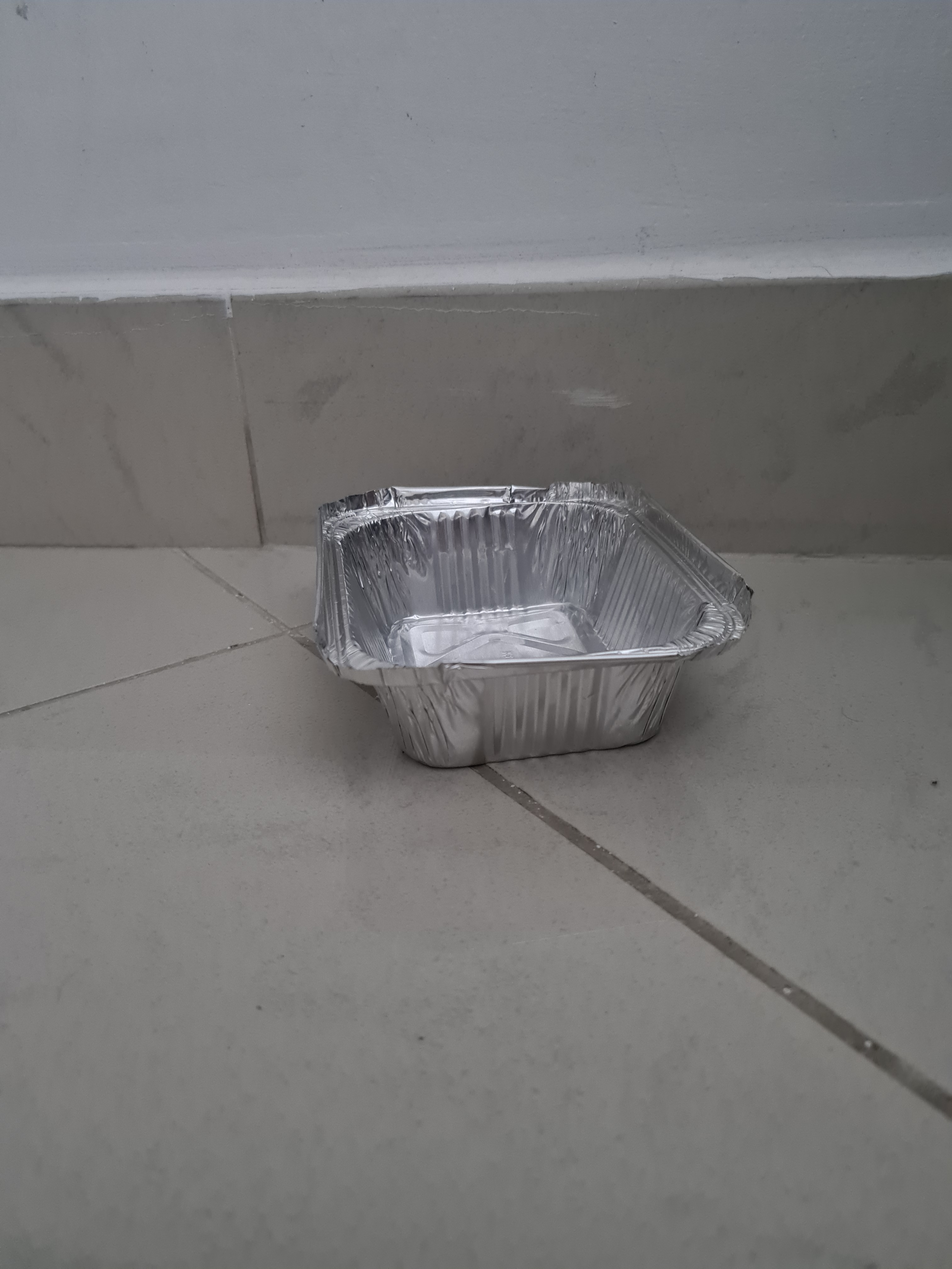Metal: (303, 466, 751, 788)
